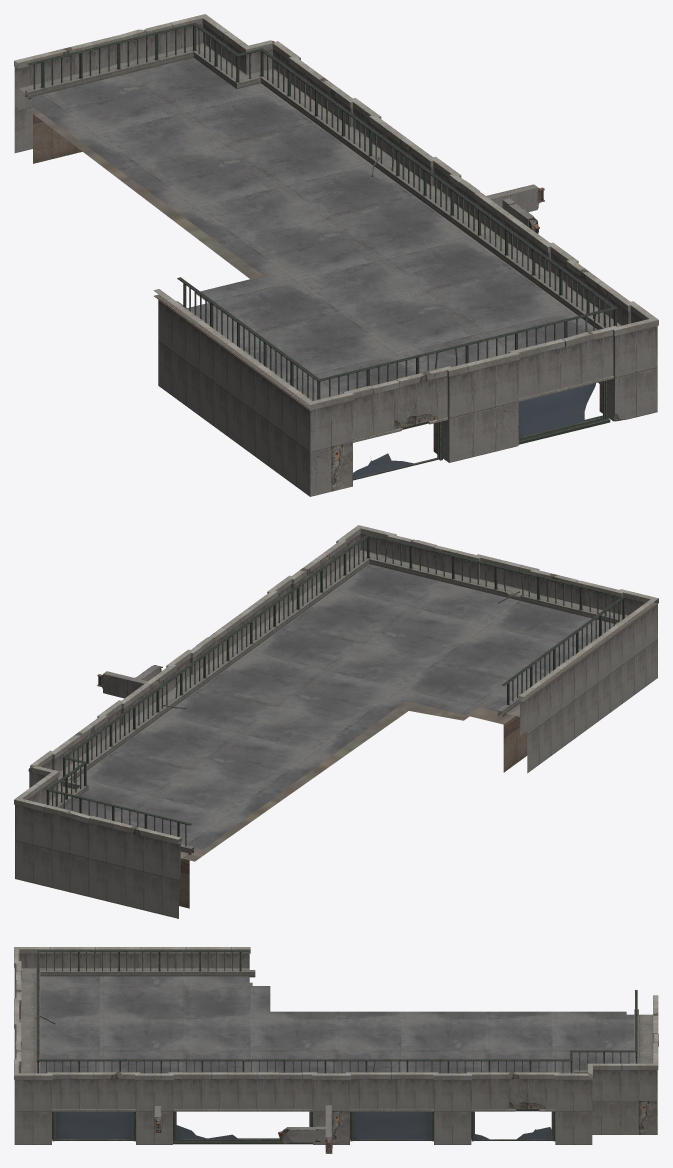
The model's file is Hotel_Roof.fbx.
3 views of the same model, one above another, from view 1: azimuth 30°, elevation 25°; view 2: azimuth 150°, elevation 25°; view 3: azimuth 270°, elevation 25° (orthographic). The views are drawn at different scales.
Parts seen in each view (by area): view 1: Hotel_STR_House_01_Roof_3; view 2: Hotel_STR_House_01_Roof_3; view 3: Hotel_STR_House_01_Roof_3.
Boxes of the visible parts, bbox=[...] form: Hotel_STR_House_01_Roof_3: bbox=[14, 14, 658, 496]; Hotel_STR_House_01_Roof_3: bbox=[14, 525, 658, 918]; Hotel_STR_House_01_Roof_3: bbox=[14, 947, 658, 1153].
Size of the model in its own units: 1657 by 368 by 2769.
4 materials, 4 textured.
